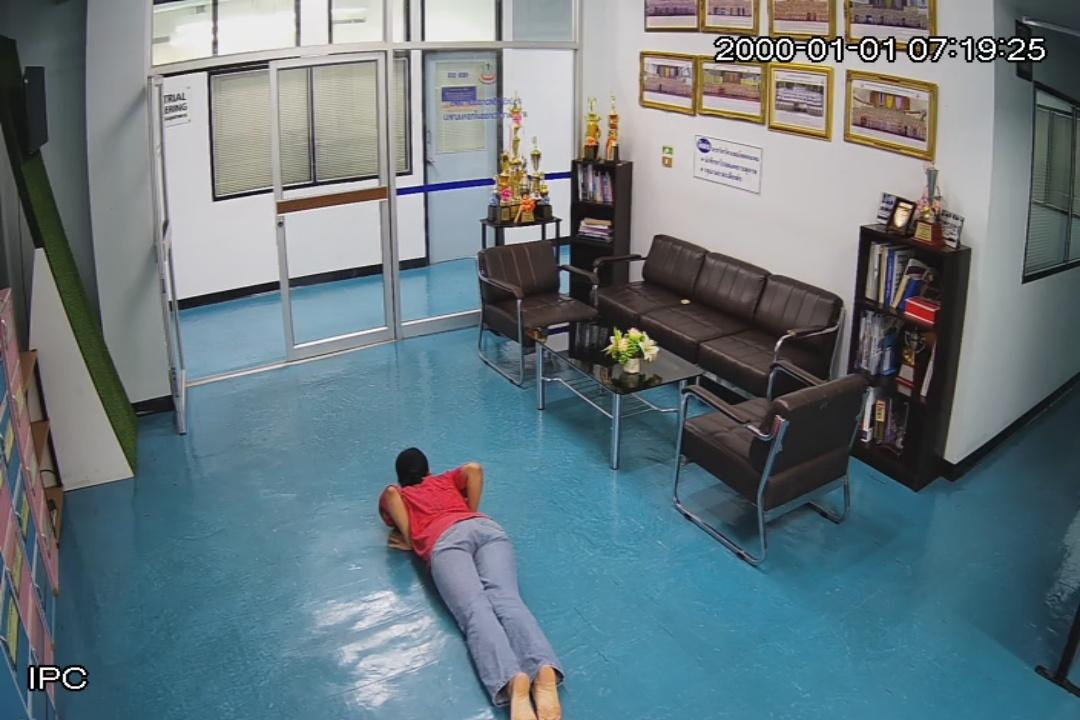fall: (372, 449, 578, 720)
